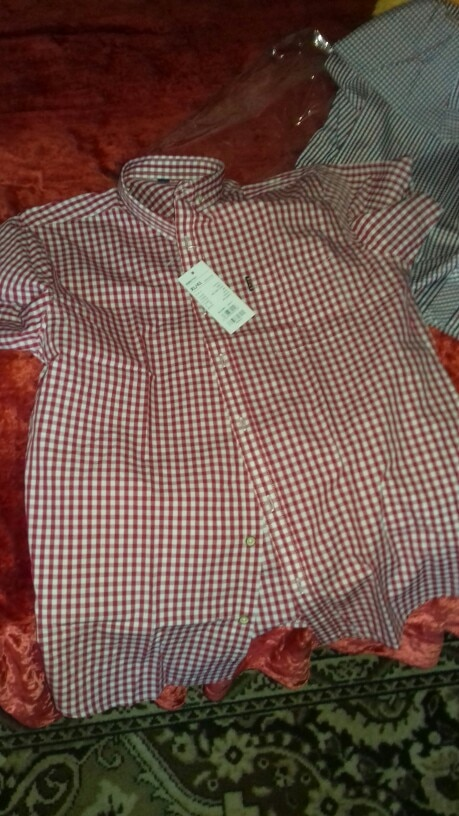shirts: (19, 155, 459, 704)
